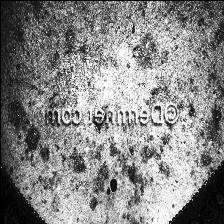Unclassified: (48, 46, 92, 82), (104, 172, 119, 198)
